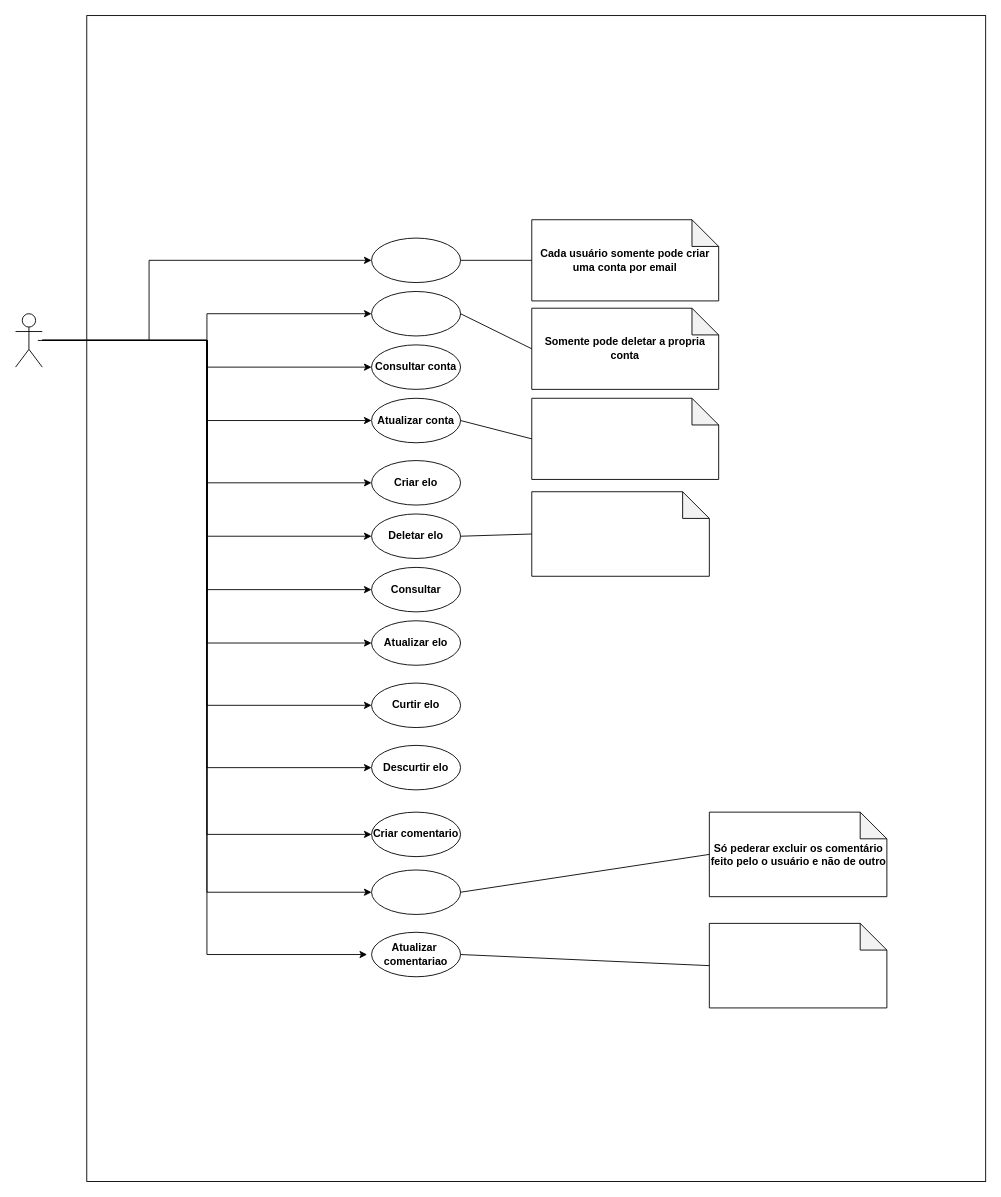
Image size: 1001x1197. Some labels were removed from this diagram. Each missing label, with the centre of its shape:
"Criar conta" goes at (x=416, y=260).
"Deletar comentario" goes at (x=416, y=891).
"Deletar conta" goes at (x=416, y=313).
"Somente pode atualizar a propria conta" goes at (x=625, y=438).
"Só pederar atualizar os comentário feito pelo o usuário e não de outro" goes at (x=797, y=965).
"Só pederar excluir caso não tenha nenhuma curtida ou comentário" goes at (x=620, y=533).
"User" goes at (x=28, y=340).
